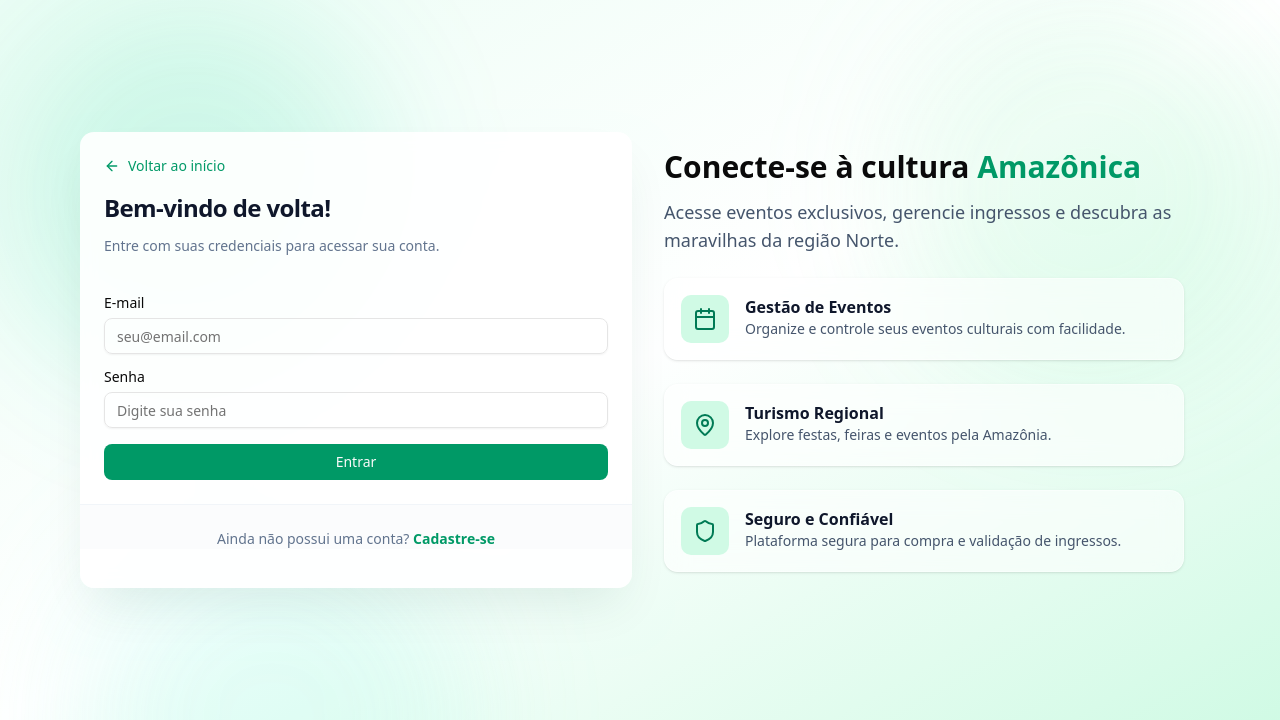
Login Page › exibe erro quando API retorna falha de login
Type "gestor@teste.com" into the field labelled "E-mail". click: (356, 336)
box: 104,318 -> 608,354
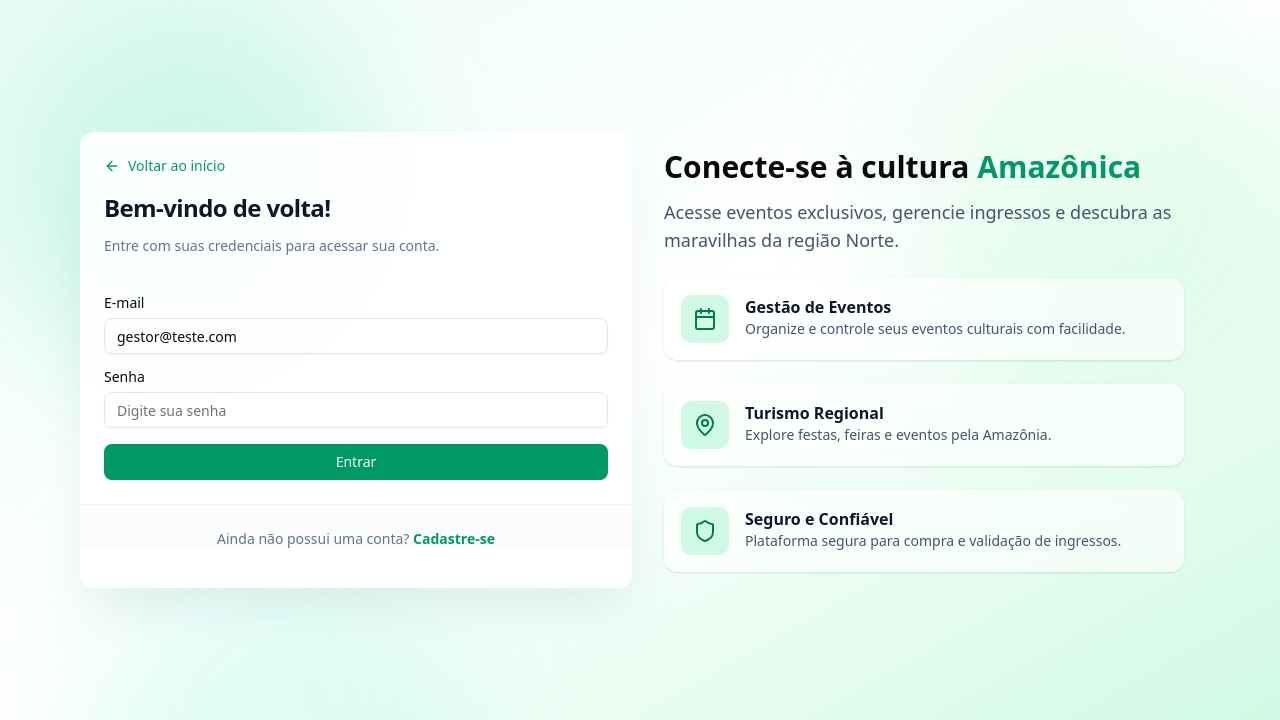
Type "123456" into the password field labelled "Senha". click: (356, 410)
box: 104,392 -> 608,428
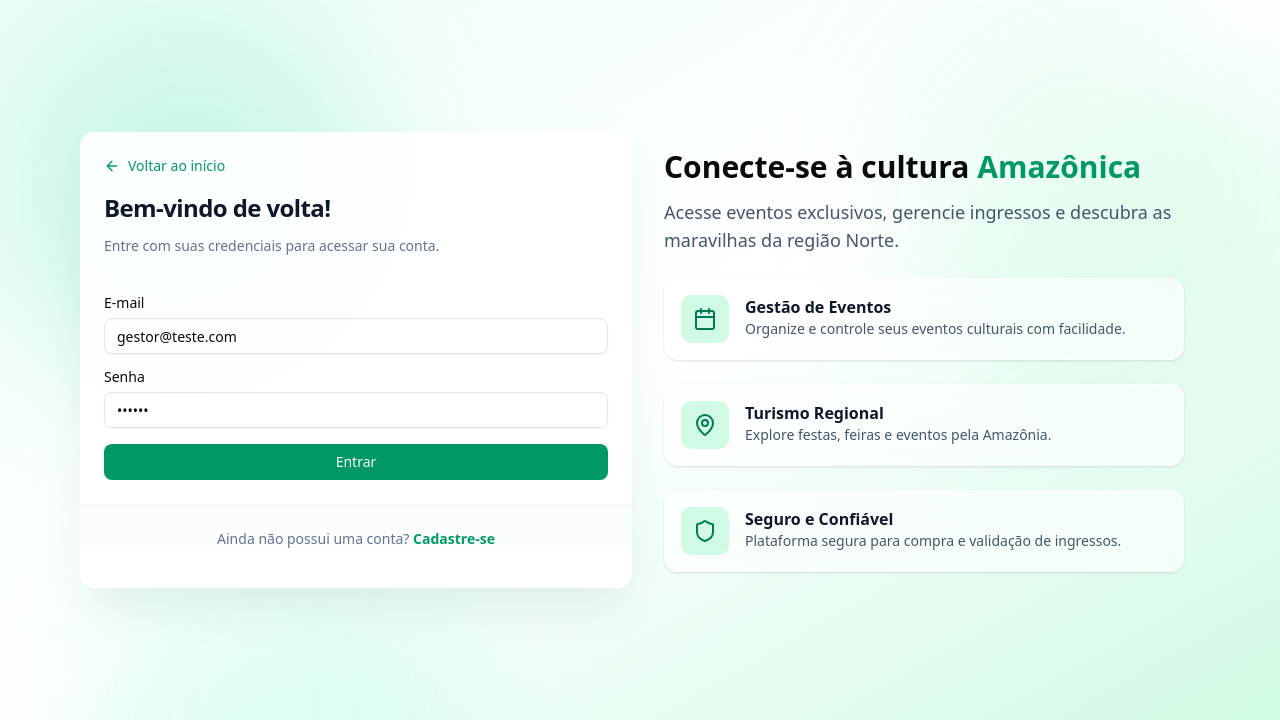
Click the button "Entrar". click: (356, 462)
box: 104,444 -> 608,480
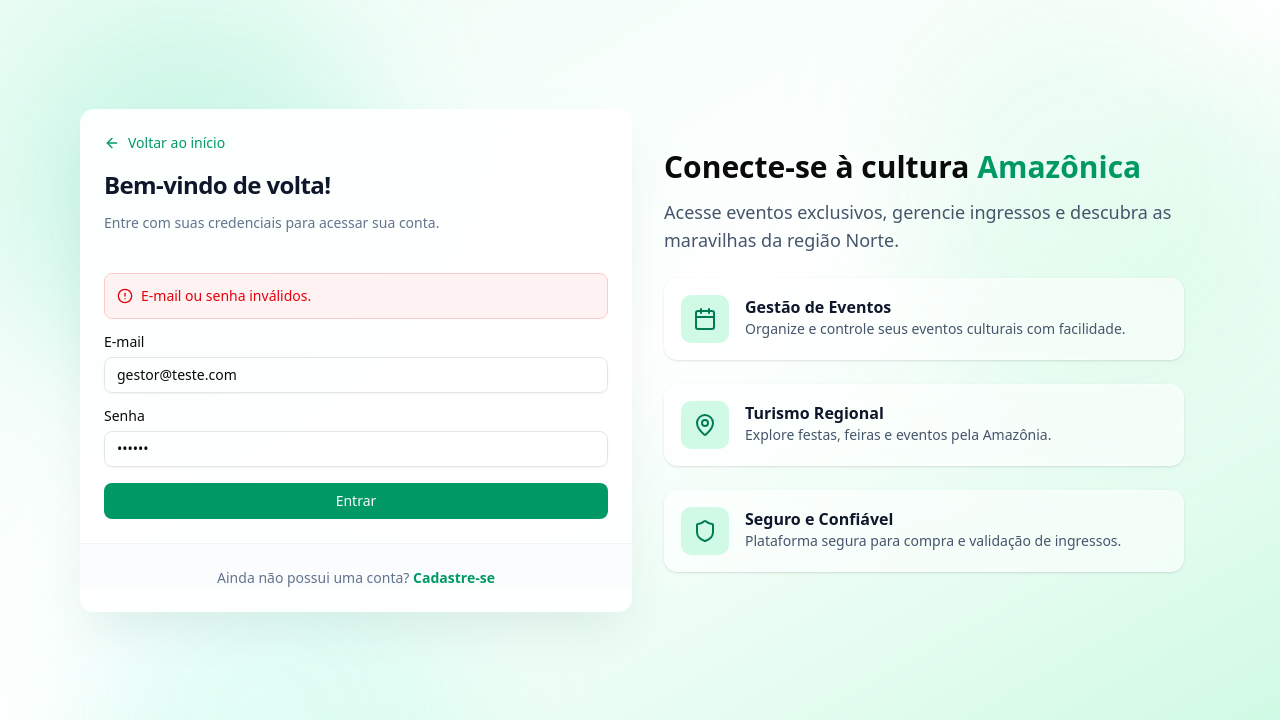
Result: the text "E-mail ou senha inválidos." is shown at 141,286 -> 311,306
